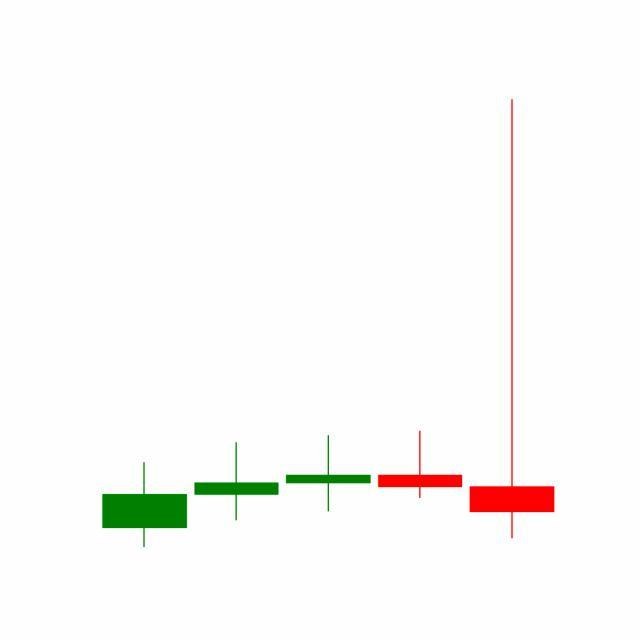Spinning Top: (374, 430, 468, 500)
